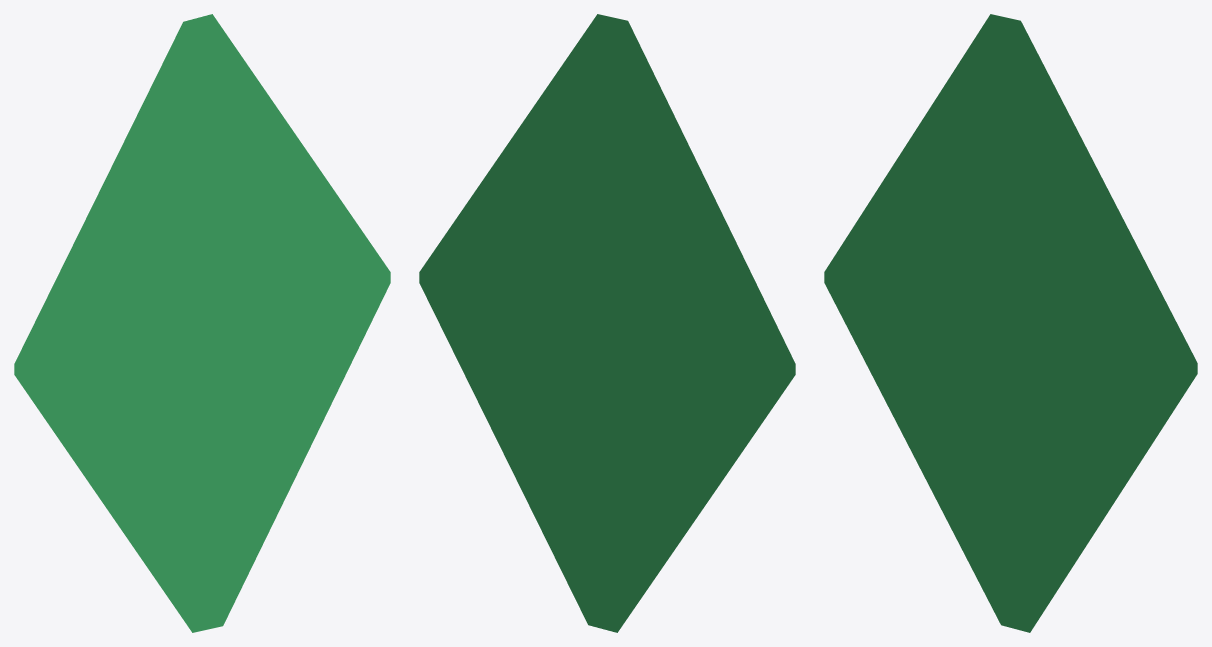
The model's file is 30_green.fbx.
3 views of the same model, side by side, from view 1: azimuth 30°, elevation 25°; view 2: azimuth 150°, elevation 25°; view 3: azimuth 330°, elevation 25° (orthographic).
Parts seen in each view (by area): view 1: 30_green; view 2: 30_green; view 3: 30_green.
Part boxes in pixels (x1,y1,x2,y2): 30_green: (14, 14, 390, 632); 30_green: (419, 14, 795, 632); 30_green: (824, 14, 1197, 632).
Bounding box in the file's own units: 58.47 × 91.13 × 0.183.
